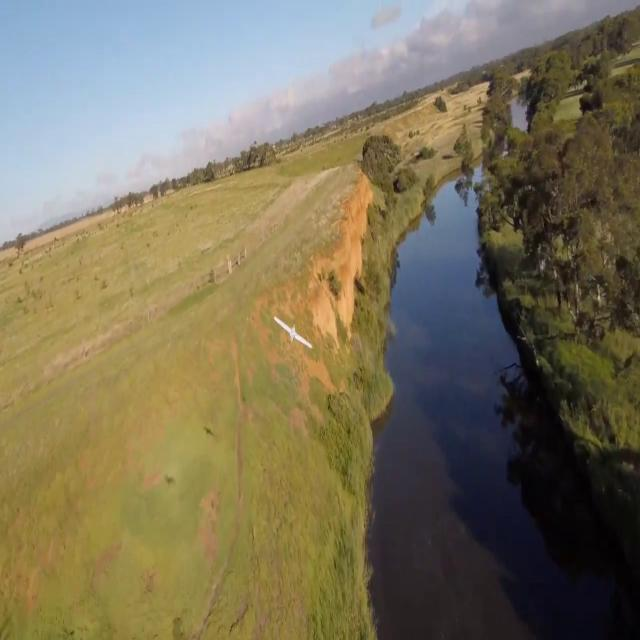iha: (273, 307, 314, 342)
